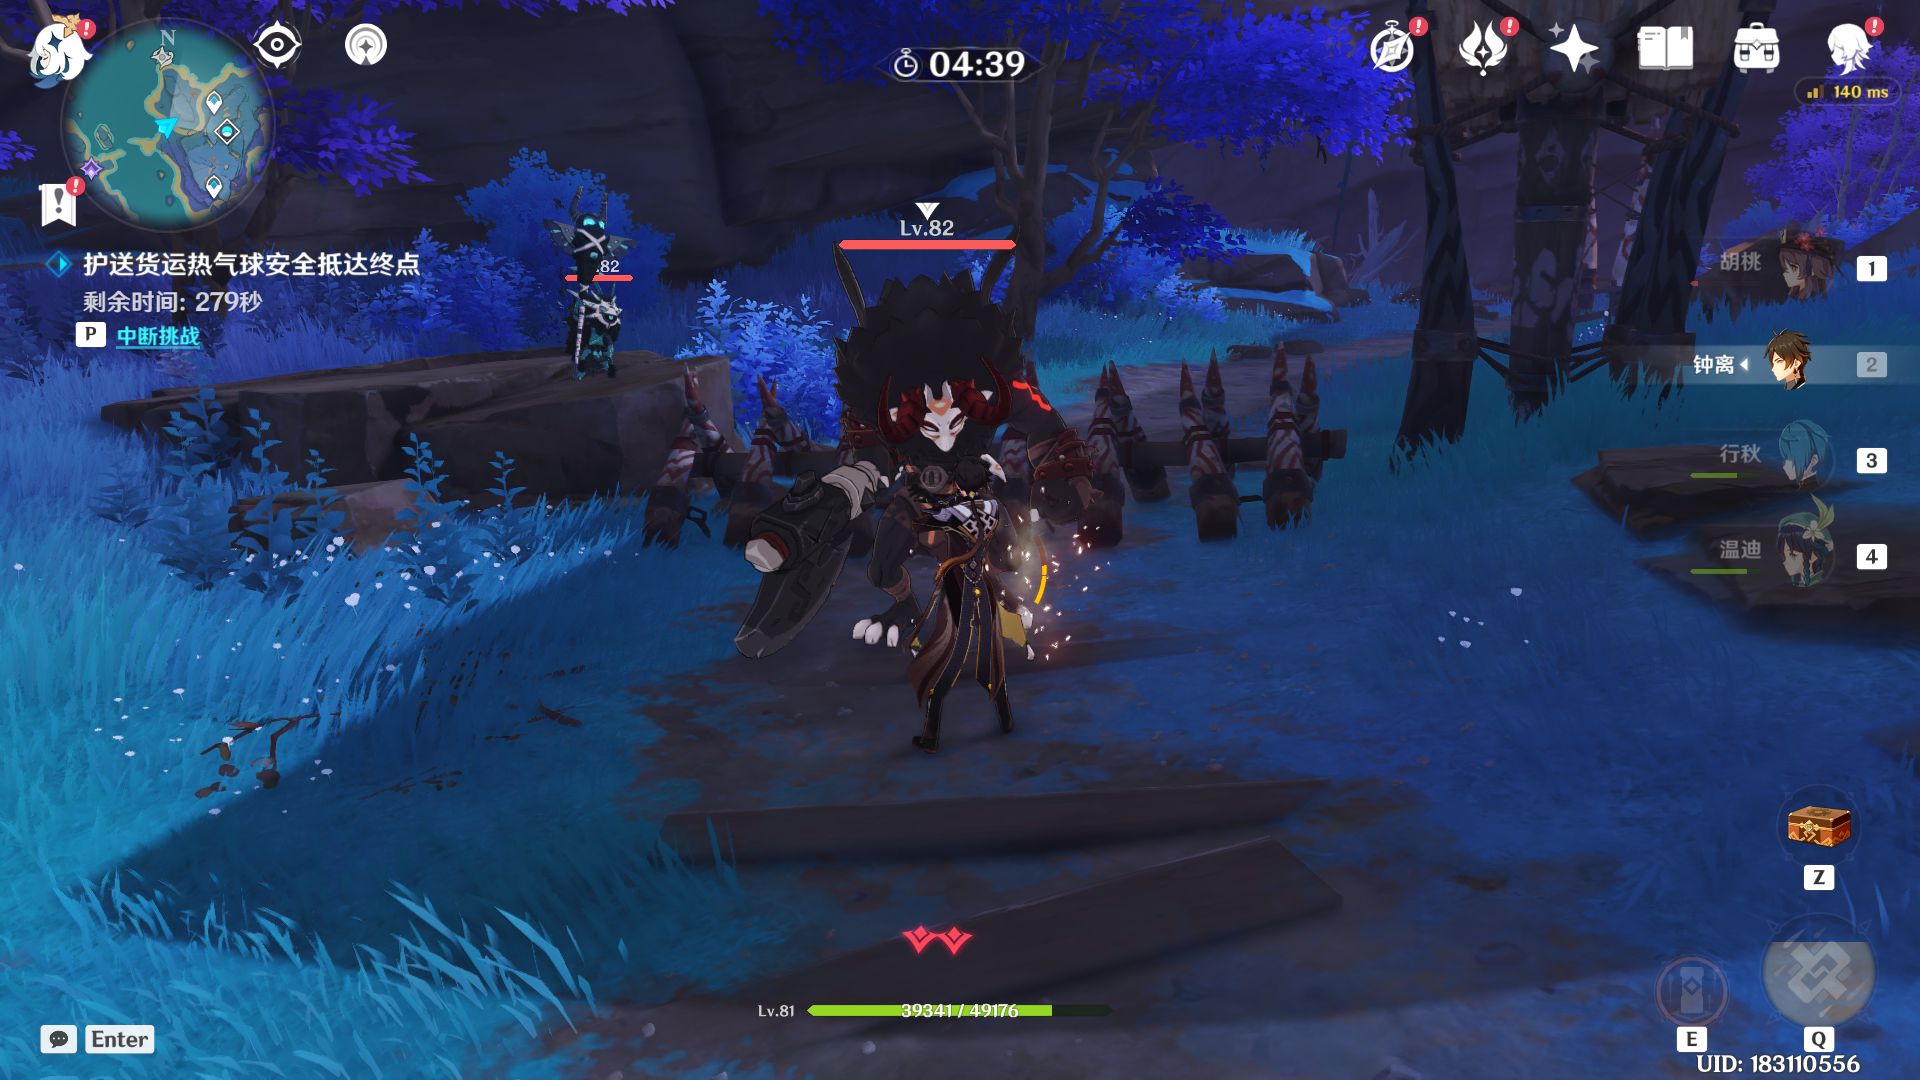bighili: (741, 252, 1138, 719)
character: (909, 448, 1075, 789)
hili: (534, 206, 644, 396)
